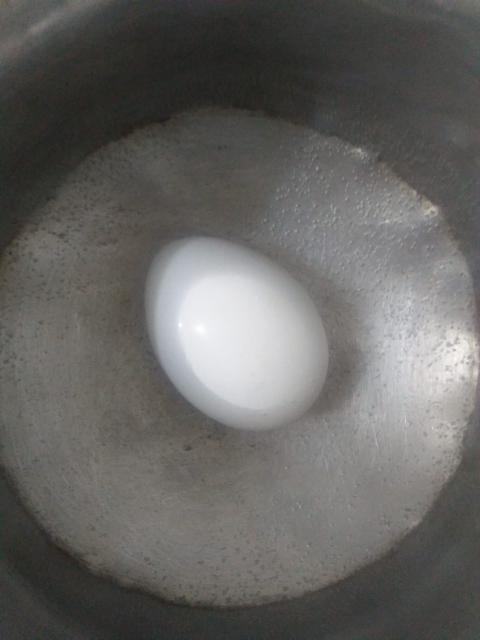Sano: (143, 234, 330, 432)
